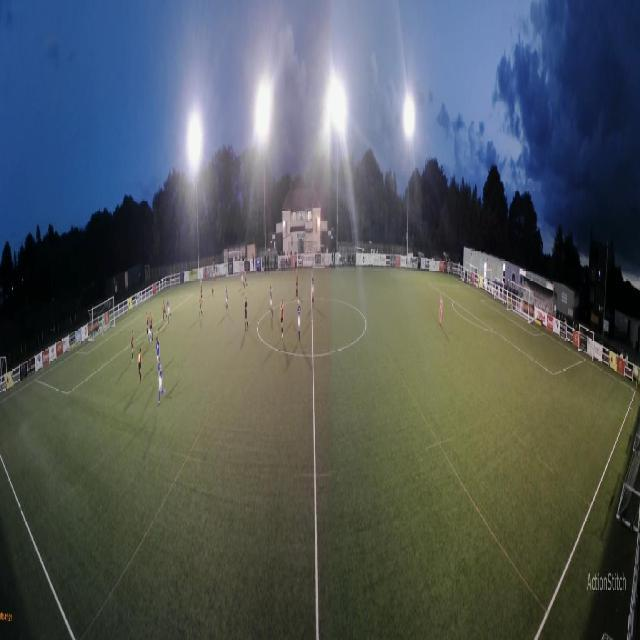player: (157, 355, 166, 405), (137, 347, 143, 385), (279, 297, 284, 341), (297, 299, 301, 343), (155, 336, 161, 365), (166, 298, 172, 324), (161, 299, 167, 323), (244, 296, 248, 332), (130, 328, 134, 362), (439, 293, 443, 327), (148, 317, 153, 343), (269, 286, 273, 317), (225, 284, 229, 314), (149, 312, 153, 339), (199, 291, 203, 318), (312, 273, 315, 308), (200, 278, 204, 302), (244, 269, 248, 291), (296, 269, 299, 298), (146, 310, 149, 337), (241, 270, 245, 288), (101, 315, 104, 337), (211, 276, 214, 295)
